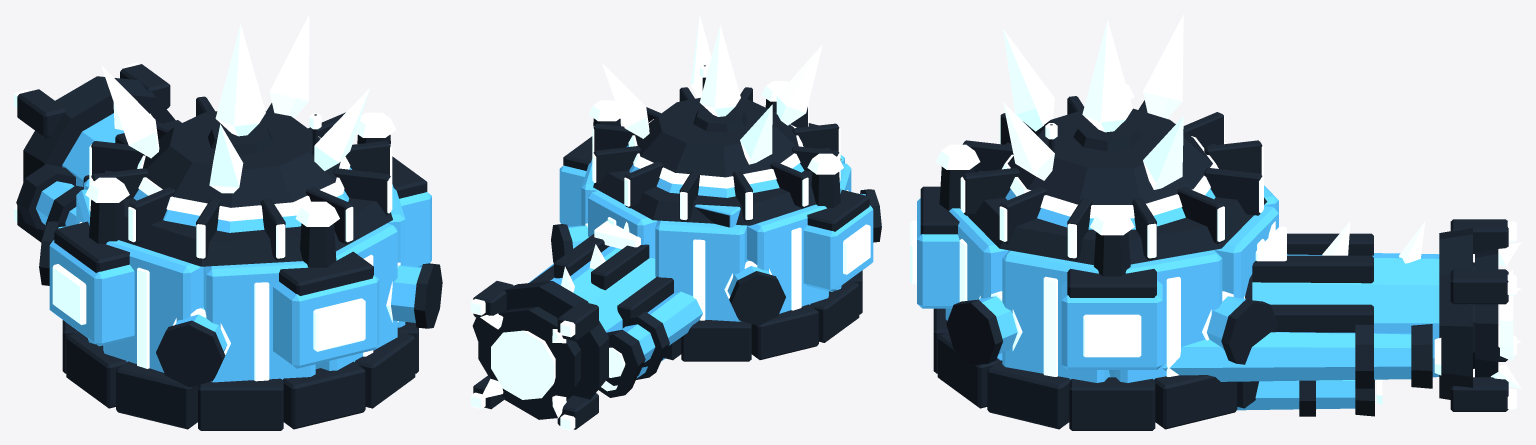
File: tower_frost4_turret.glb
3 renders of one model, left to right at view 1: azimuth 30°, elevation 25°; view 2: azimuth 150°, elevation 25°; view 3: azimuth 270°, elevation 25°, orthographic. The views are drawn at different scales.
Parts seen in each view (by area): view 1: TowerFrost4_Turret, TowerFrost4_Barrel; view 2: TowerFrost4_Turret, TowerFrost4_Barrel; view 3: TowerFrost4_Turret, TowerFrost4_Barrel.
Part boxes in pixels (x1,y1,x2,y2): TowerFrost4_Turret: (39, 14, 442, 430); TowerFrost4_Barrel: (14, 63, 181, 242); TowerFrost4_Turret: (551, 15, 881, 361); TowerFrost4_Barrel: (471, 221, 702, 430); TowerFrost4_Turret: (910, 14, 1278, 430); TowerFrost4_Barrel: (1109, 219, 1521, 416).
Bounding box in the file's own units: 0.864 × 0.847 × 1.31.
